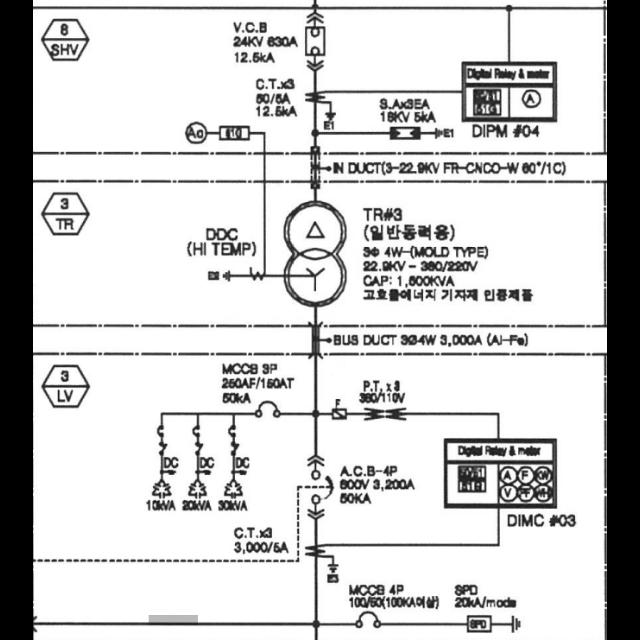CB: (306, 26, 326, 54)
CT: (305, 91, 325, 105), (305, 544, 325, 558), (250, 266, 266, 282)
GND: (512, 614, 522, 634), (326, 564, 339, 574), (222, 270, 232, 282), (435, 127, 443, 139), (325, 112, 337, 120)
LA: (391, 126, 422, 140)
MCCB: (356, 611, 379, 627), (256, 401, 278, 417)
PF2: (333, 408, 347, 419)
PT: (366, 407, 406, 421)
SC: (152, 479, 172, 499), (188, 479, 208, 498), (224, 479, 242, 499)
